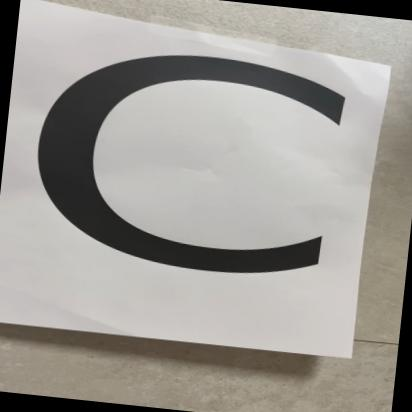seat: (0, 0, 381, 362)
